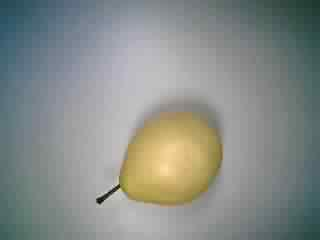pear: (90, 99, 234, 215)
